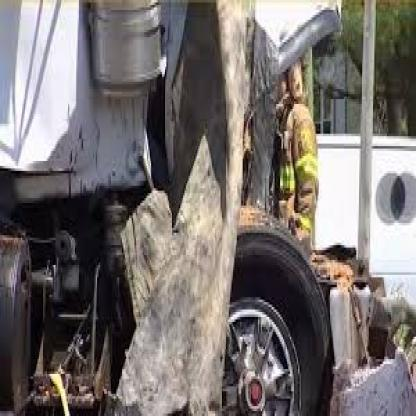accident: (135, 0, 411, 416)
